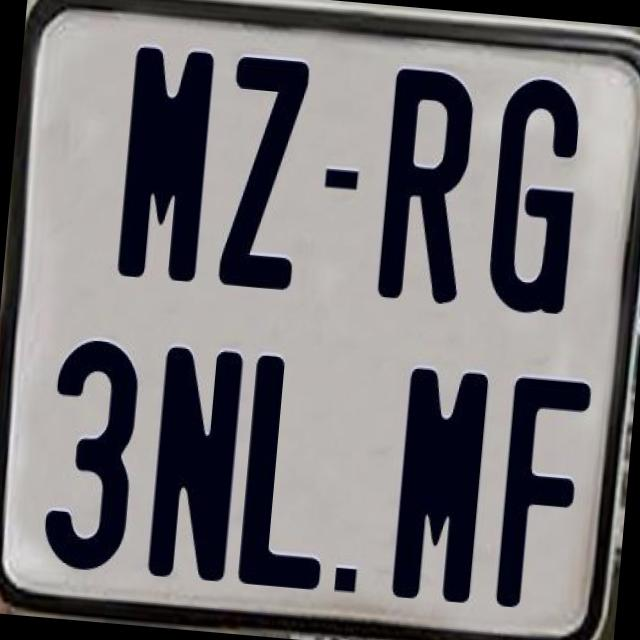3: (40, 334, 142, 579)
F: (494, 371, 598, 616)
G: (481, 74, 587, 324)
L: (235, 350, 341, 594)
M: (114, 41, 216, 278), (390, 365, 490, 606)
N: (142, 339, 248, 586)
R: (375, 64, 476, 310)
Z: (216, 52, 312, 288)
